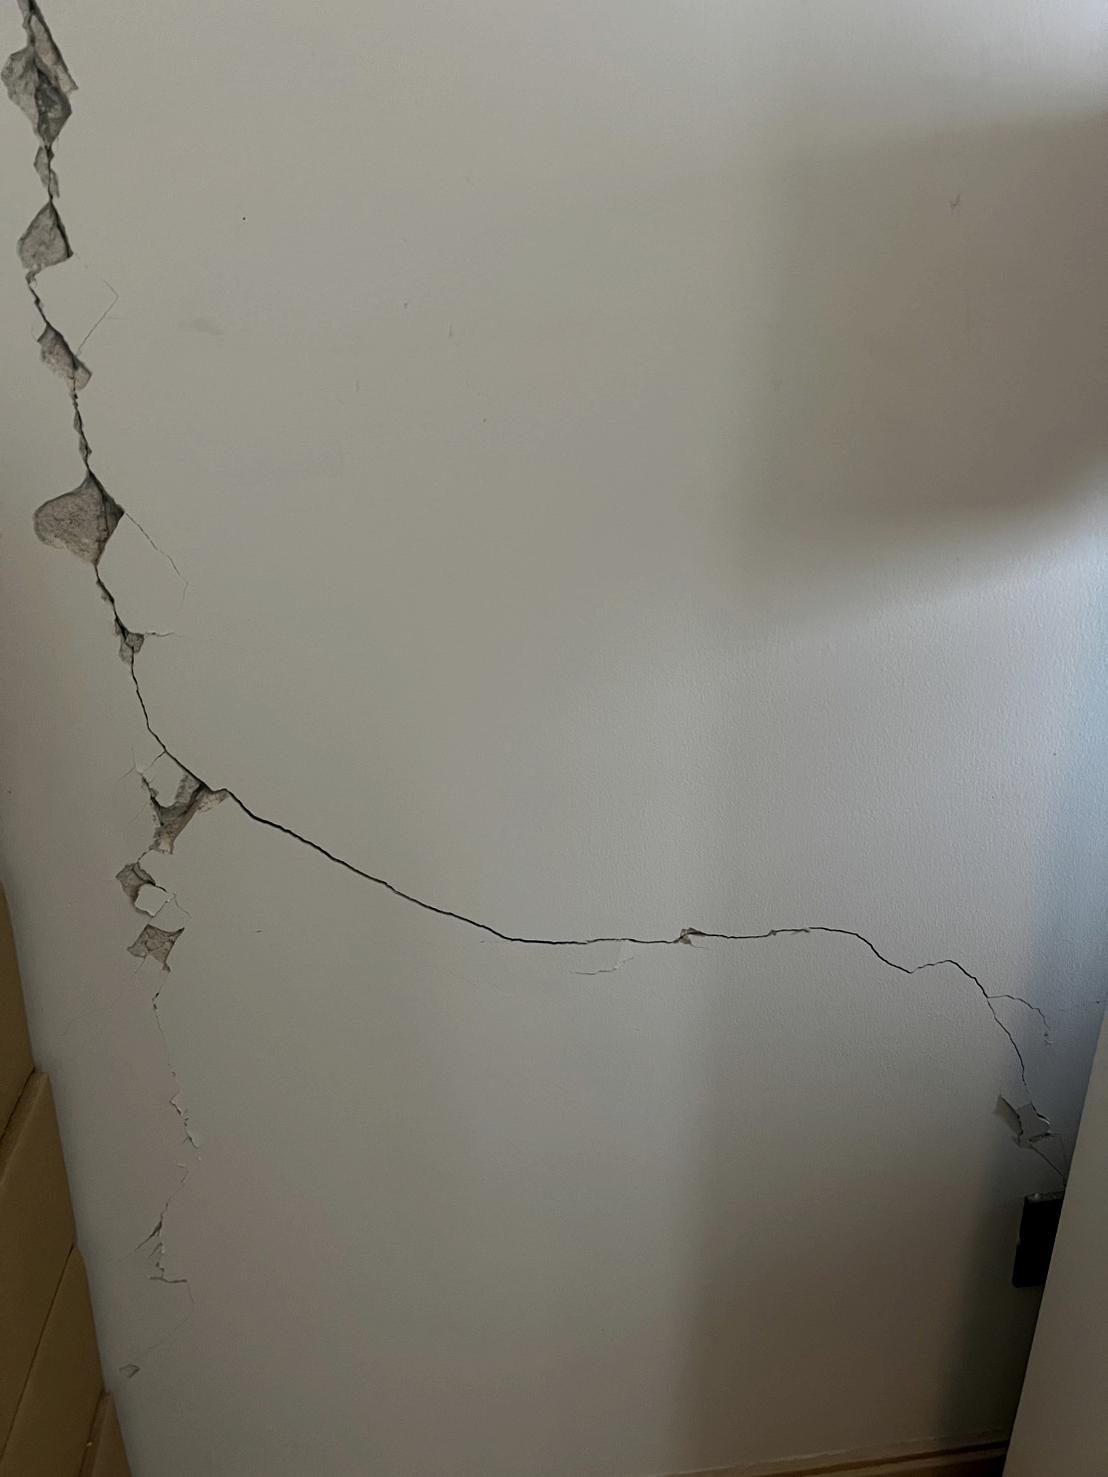High: (6, 3, 1101, 1155)
